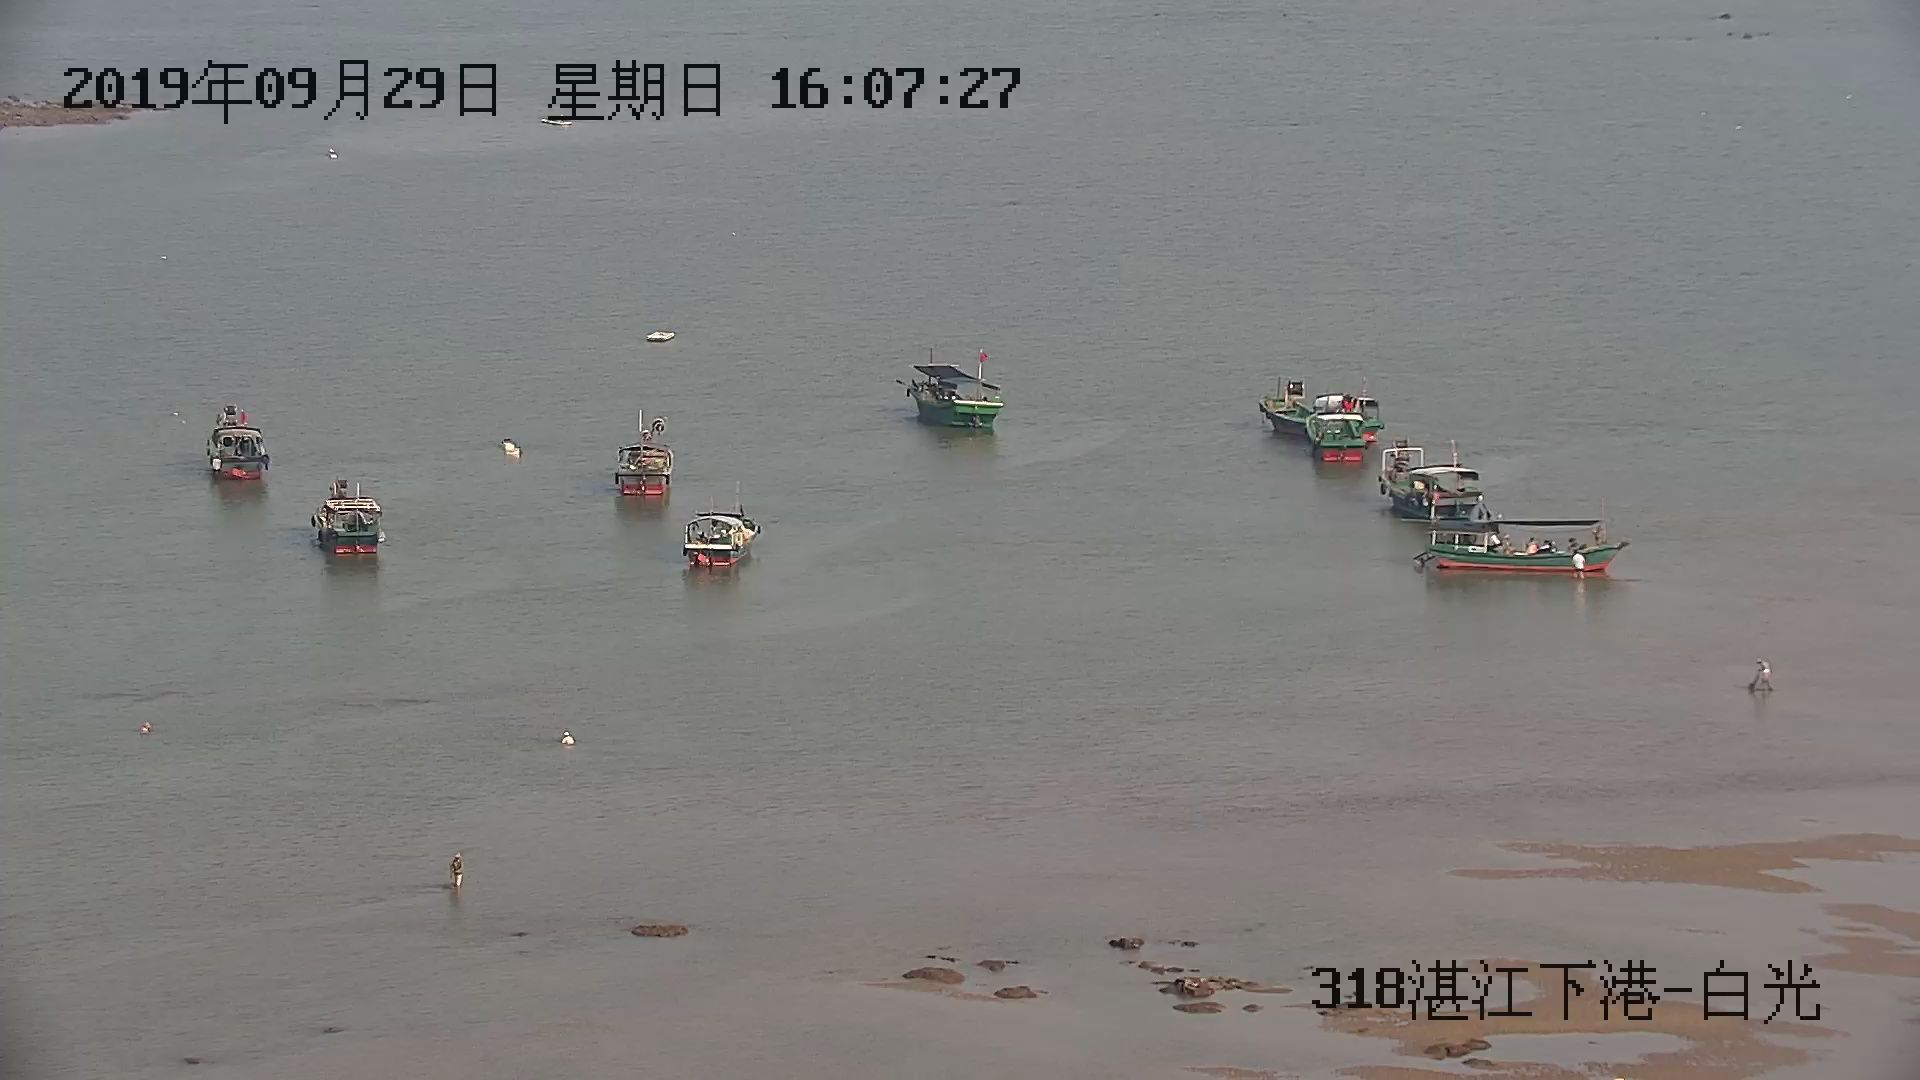ship: (1419, 508, 1633, 578), (1262, 377, 1375, 476), (1379, 440, 1485, 518), (905, 348, 1006, 425), (314, 473, 389, 554), (684, 501, 762, 570), (615, 417, 674, 504), (206, 407, 273, 483)
